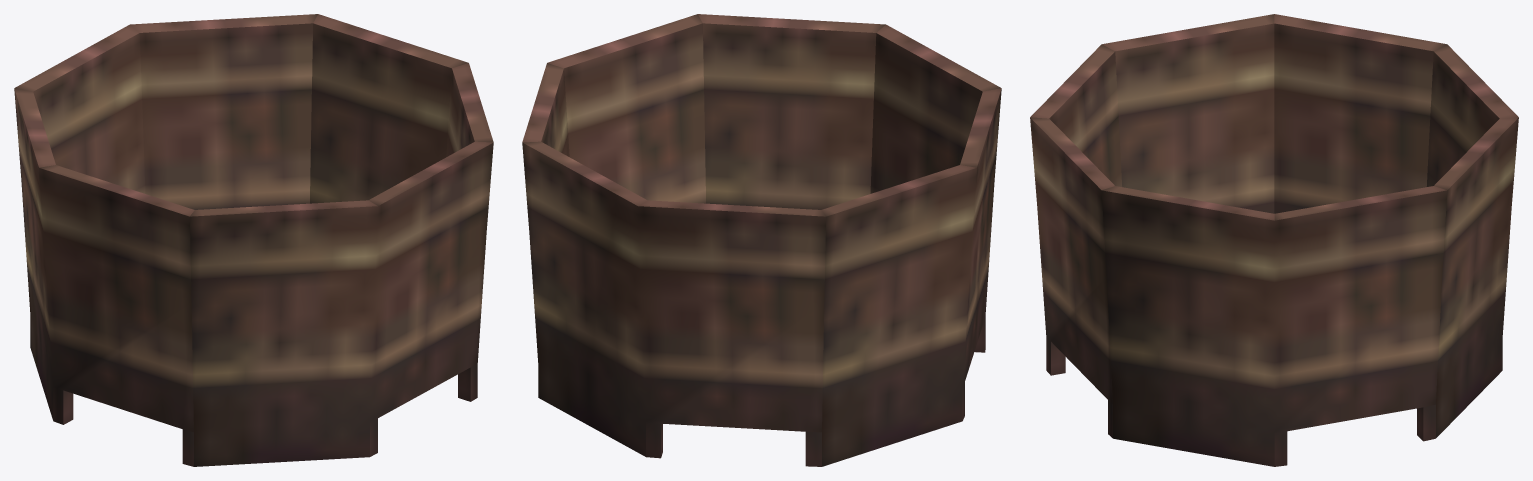
The model's file is ob-b1-006-woodbarrel_01.fbx.
3 views of the same model, side by side, from view 1: azimuth 30°, elevation 25°; view 2: azimuth 150°, elevation 25°; view 3: azimuth 270°, elevation 25° (orthographic).
Parts seen in each view (by area): view 1: waterbarrel; view 2: waterbarrel; view 3: waterbarrel.
Boxes of the visible parts, x1,y1,x2,y2 form: waterbarrel: (14,14,493,466); waterbarrel: (522,14,1001,466); waterbarrel: (1030,14,1518,466).
Bounding box in the file's own units: 1.05 × 0.5975 × 1.05.
